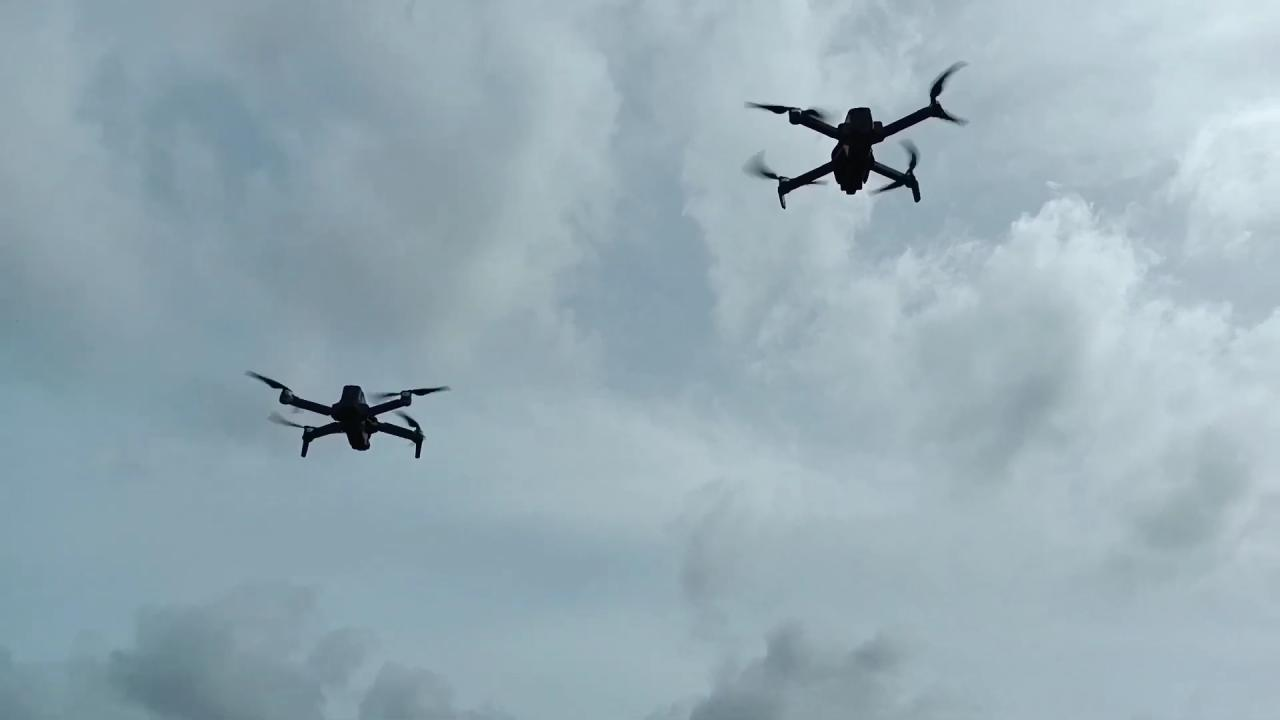Drone: (730, 54, 990, 217), (230, 354, 458, 476)
